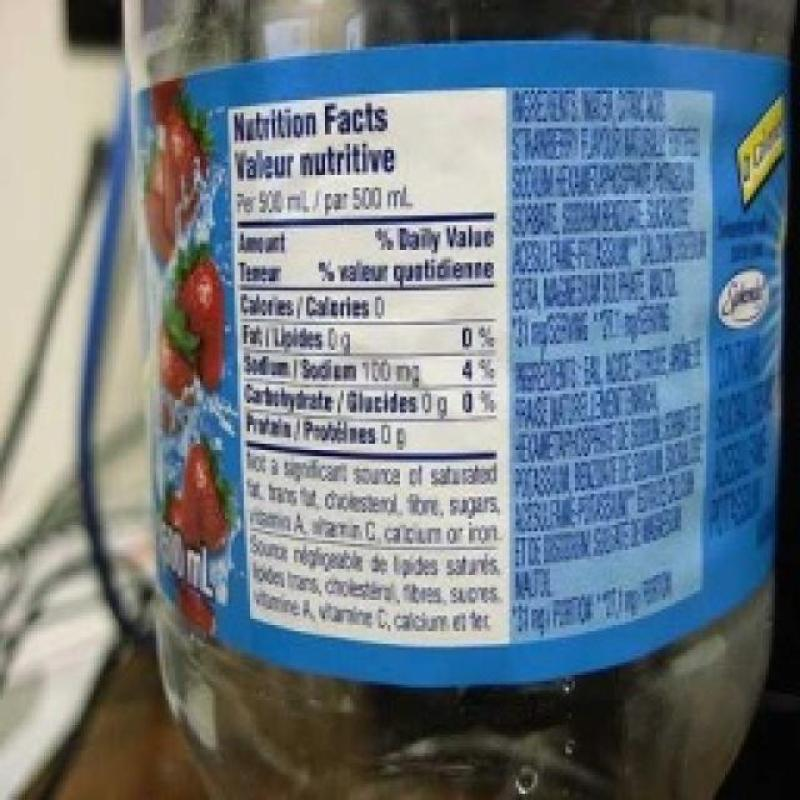botella: (121, 0, 777, 800)
